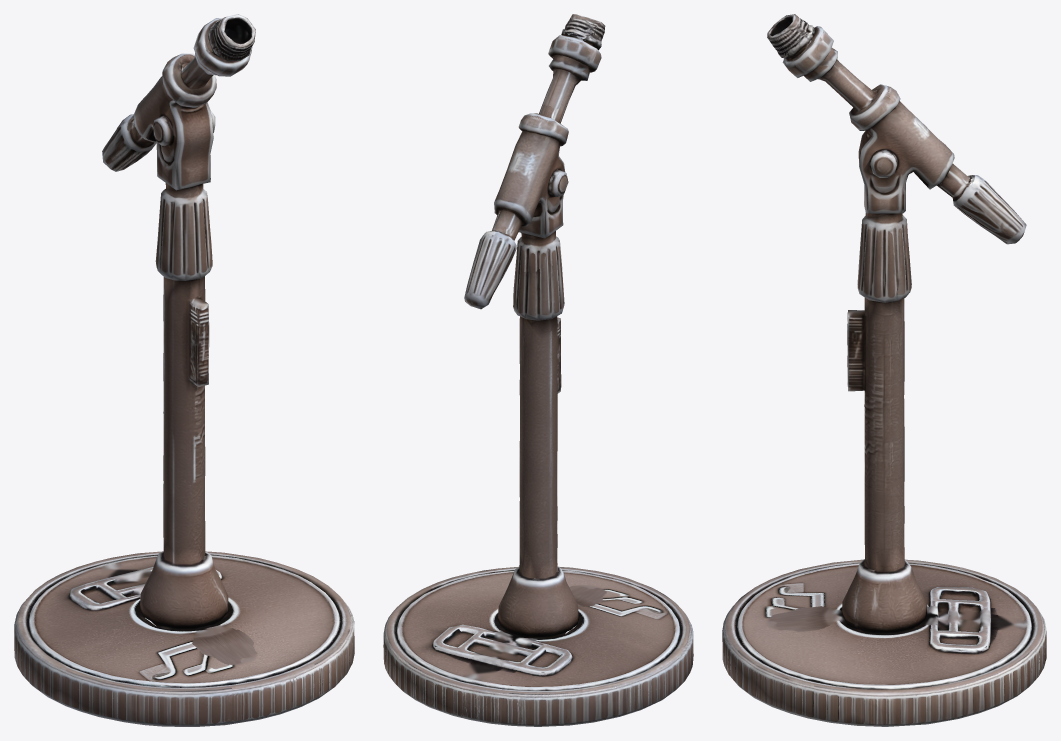
File: Prop_Trophy_Encore_01.glb
The picture shows the model from 3 angles, left to right: view 1: azimuth 30°, elevation 25°; view 2: azimuth 150°, elevation 25°; view 3: azimuth 270°, elevation 25°; orthographic projection. The views are drawn at different scales.
Visible parts, largest first — view 1: mesh_node; view 2: mesh_node; view 3: mesh_node.
Boxes of the visible parts, left/top/right/bottom form: mesh_node: left=14, top=14, right=354, bottom=726; mesh_node: left=383, top=14, right=693, bottom=726; mesh_node: left=722, top=14, right=1046, bottom=726.
Size of the model in its own units: 0.9068 by 1.98 by 0.9061.
1 material, 1 textured.
